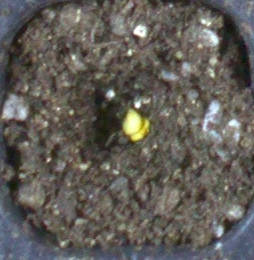chilli seed: (123, 108, 142, 134), (130, 120, 150, 141)
